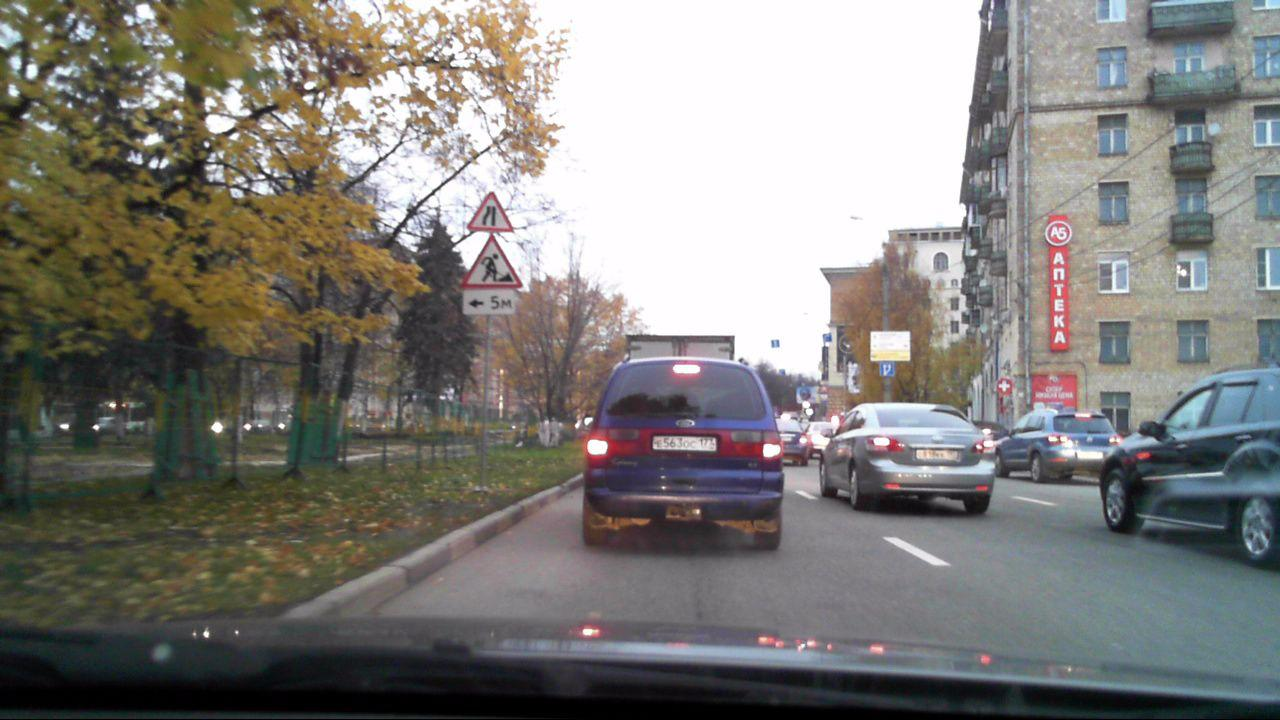1_20_3: (464, 187, 516, 233)
1_25: (463, 234, 526, 290)
5_15_2: (818, 329, 834, 346), (769, 335, 781, 348)
5_15_3: (879, 360, 897, 376)
8_1_4: (463, 290, 518, 315)
